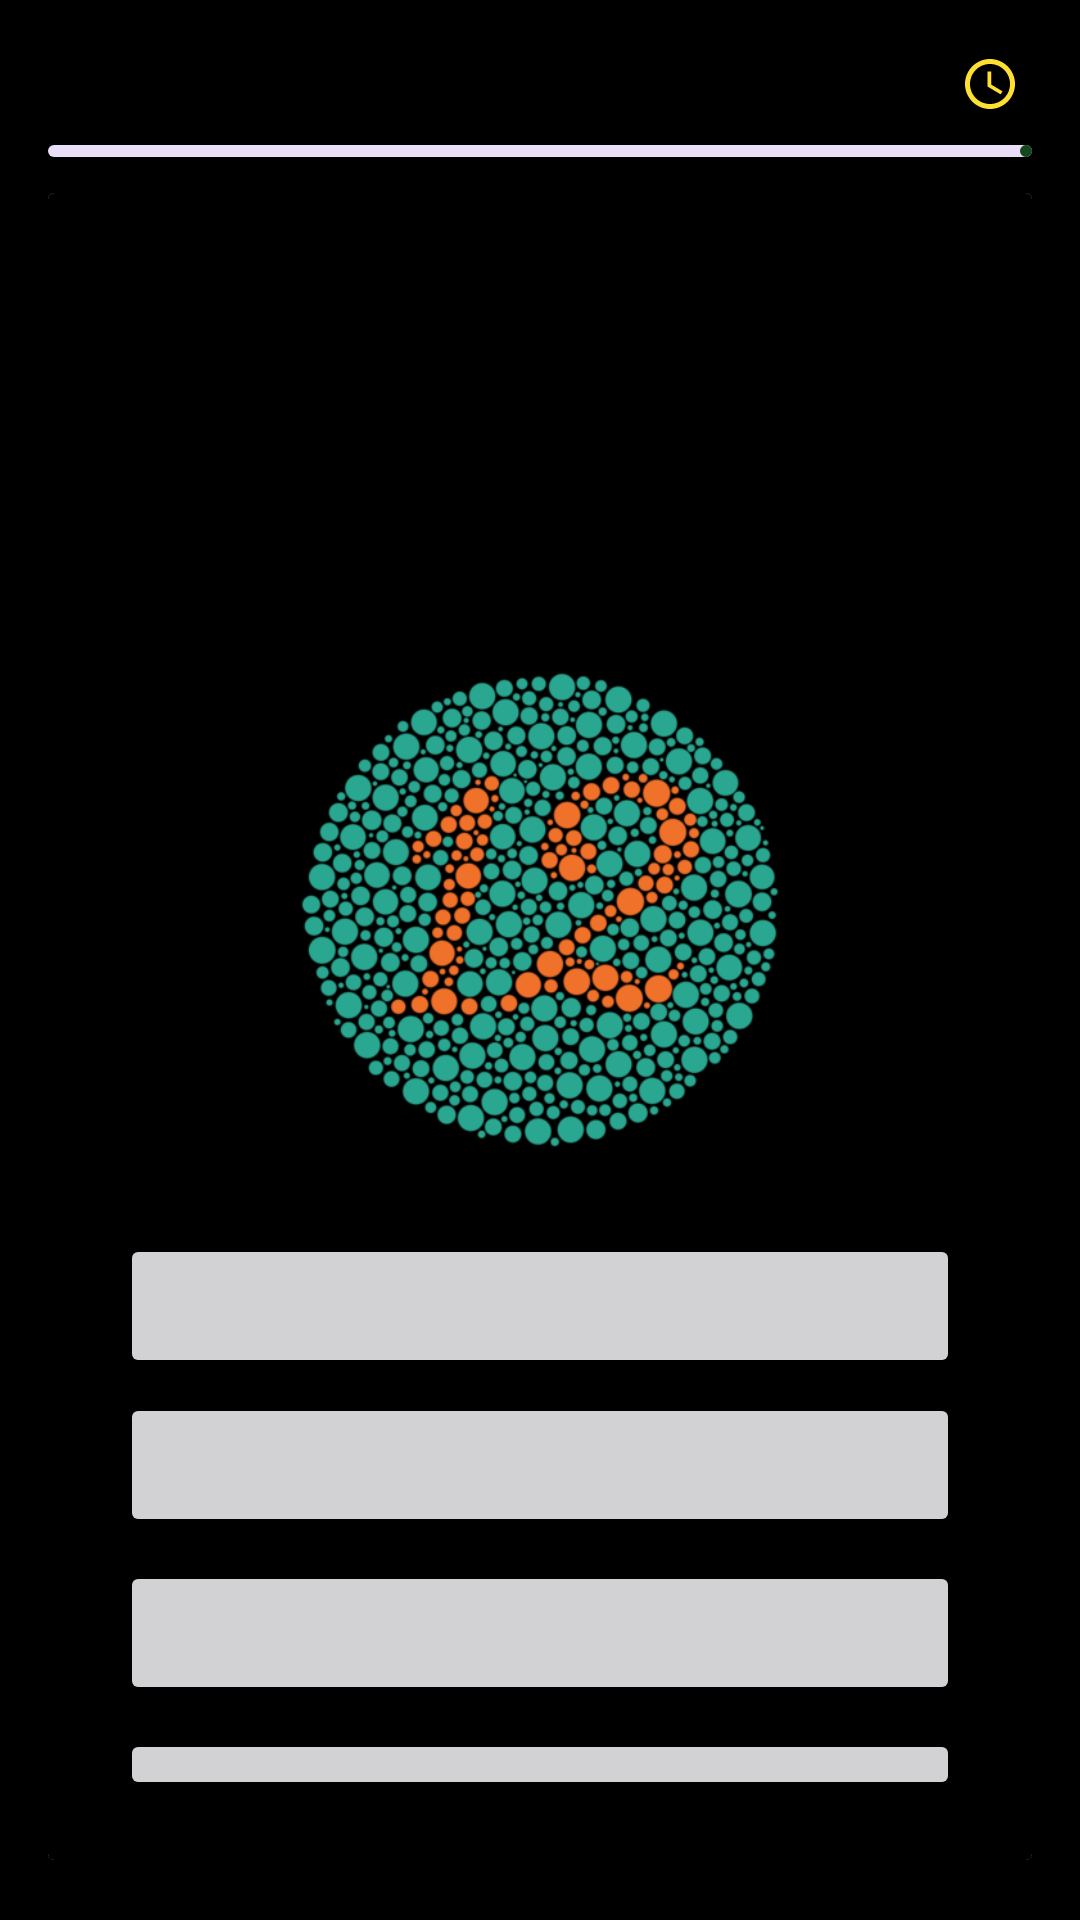

Locate icon controls on the screen. Image size 1080 x 1920, boxes as (x1, y1, x2, y2).
timer: (965, 59, 1015, 109)
